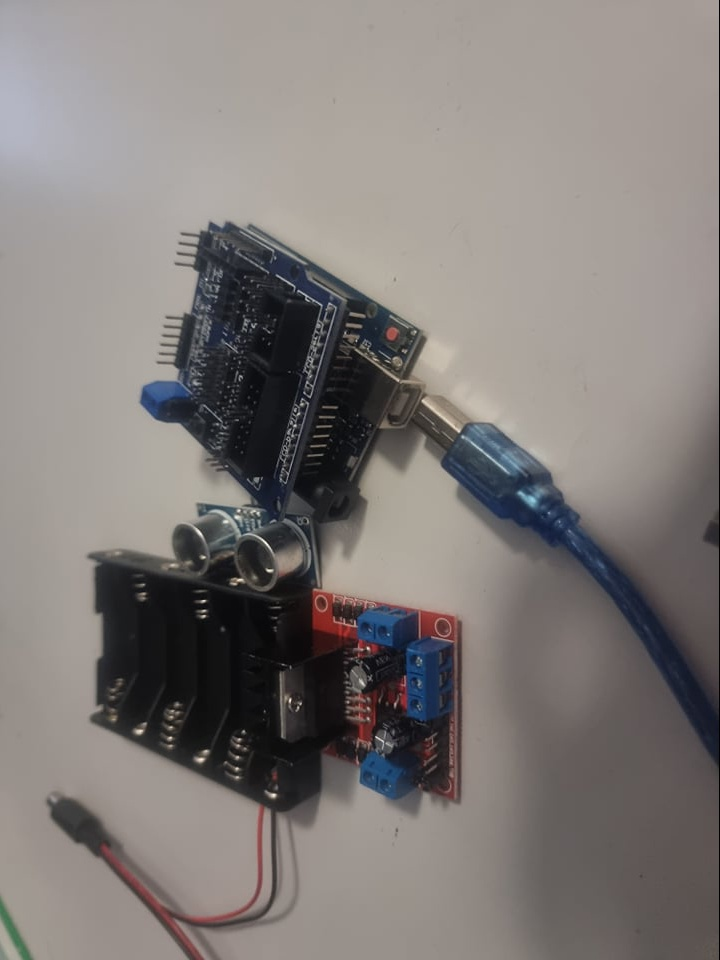5V EXPANSION: (141, 221, 319, 518)
BATTERY BOX: (90, 541, 322, 811)
MOTOR: (254, 603, 466, 806)
SENSOR: (170, 496, 324, 589)
UNO R3: (316, 308, 430, 545)
